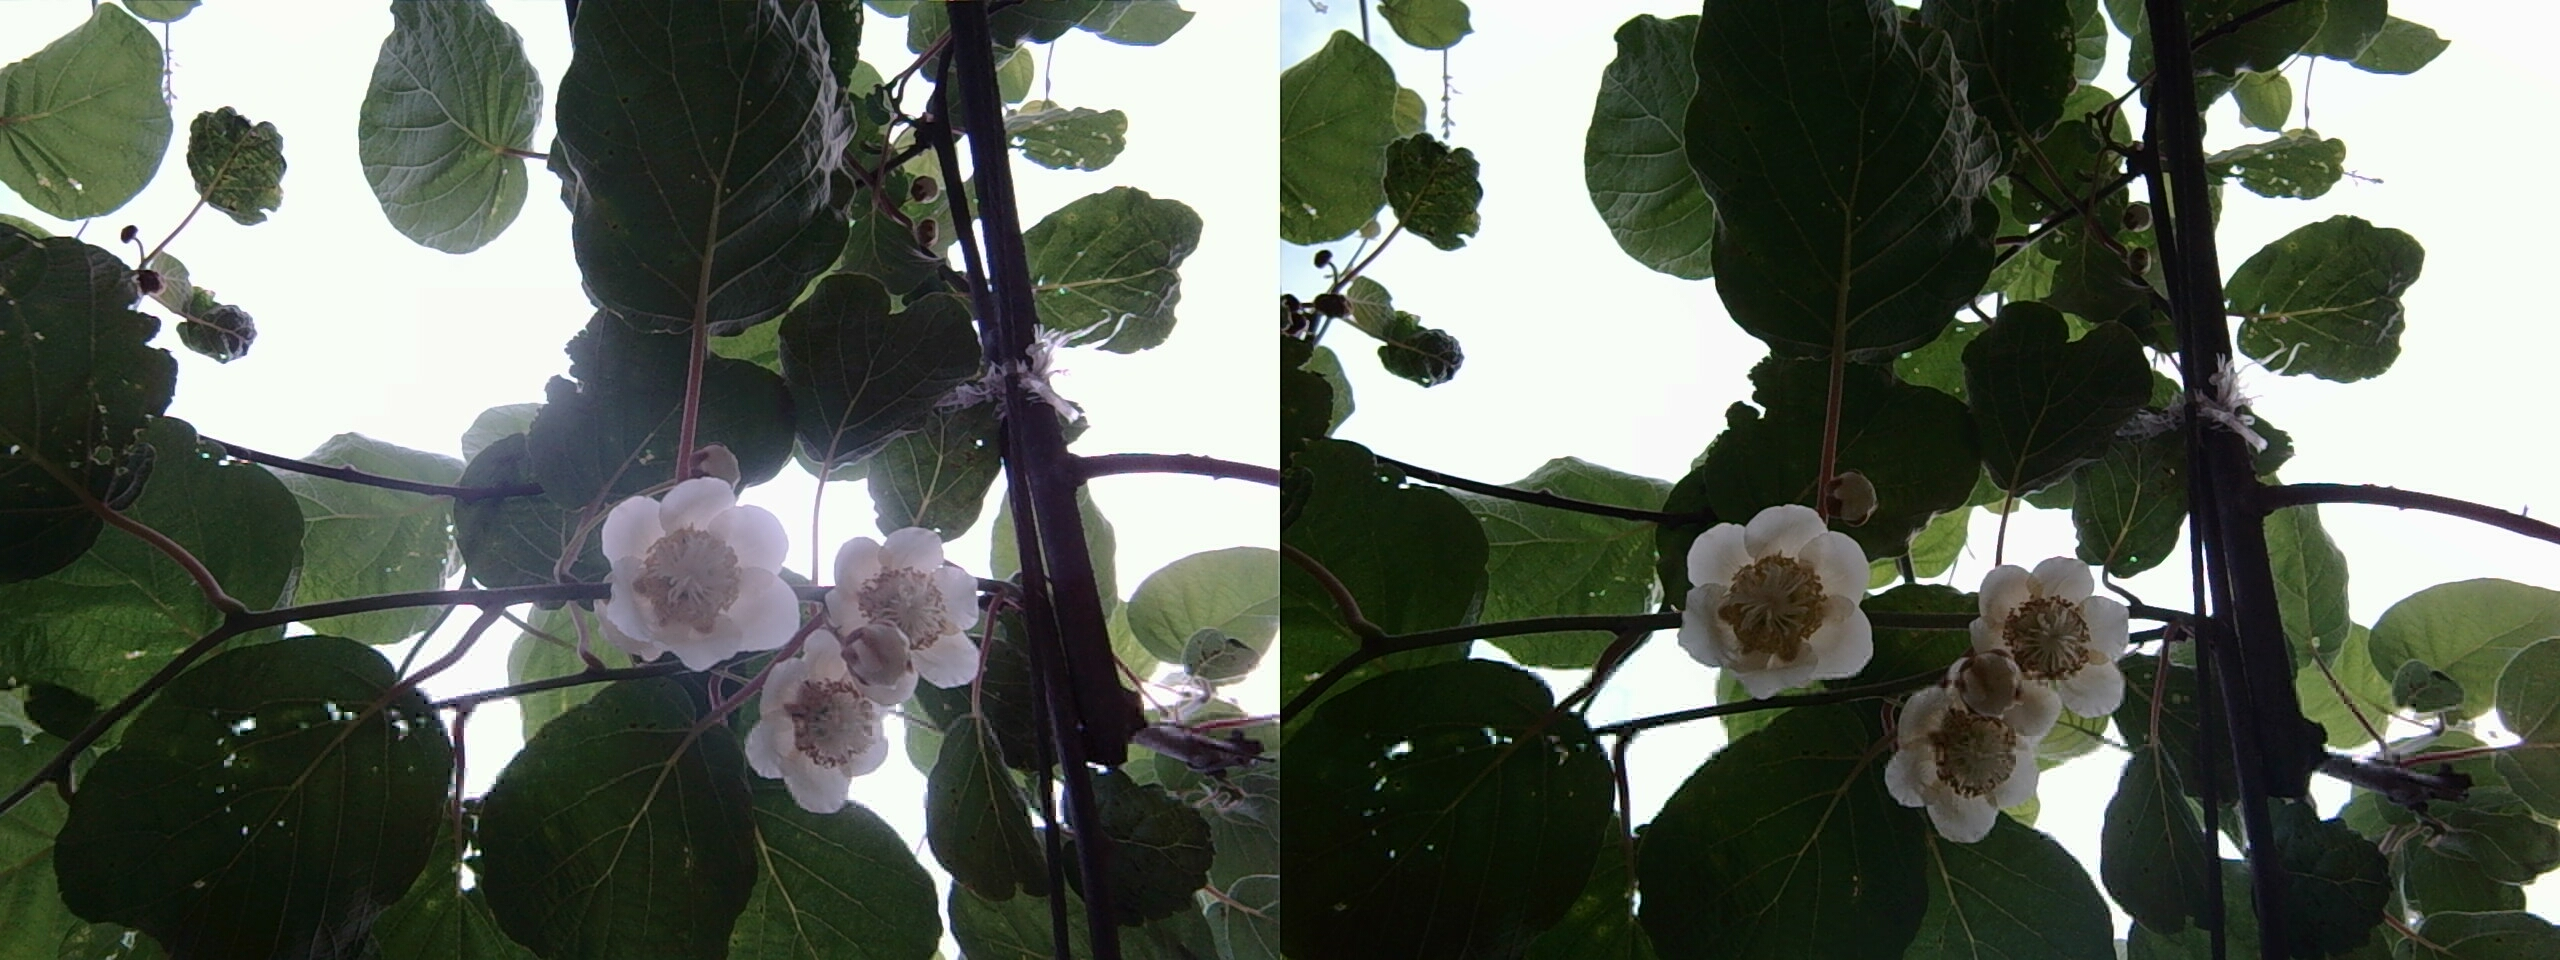flower: (589, 465, 797, 660), (1669, 495, 1869, 686), (736, 607, 922, 803), (1878, 650, 2067, 834), (816, 519, 993, 691), (1958, 553, 2136, 722)
